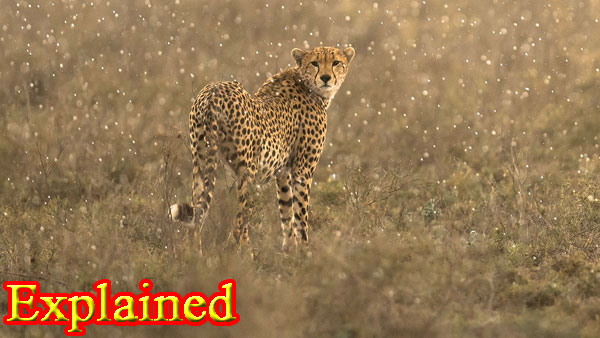cheetah: (289, 42, 359, 96)
